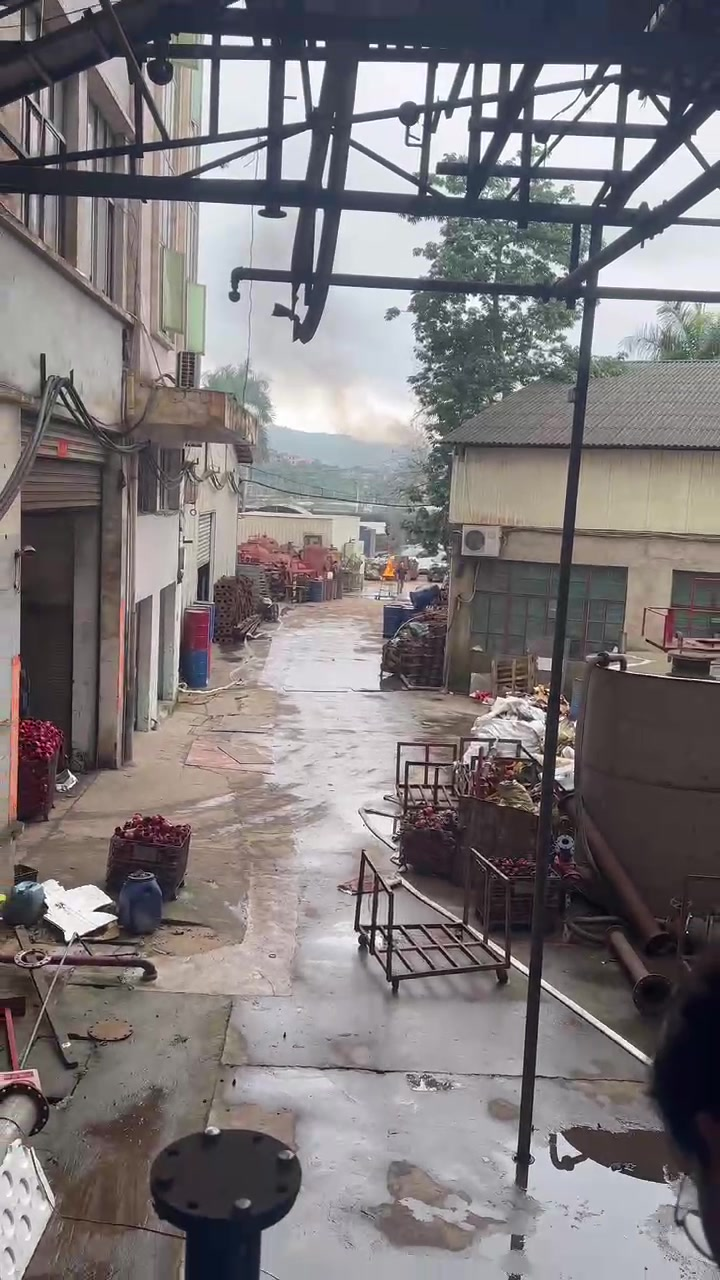fire: (382, 558, 393, 575)
